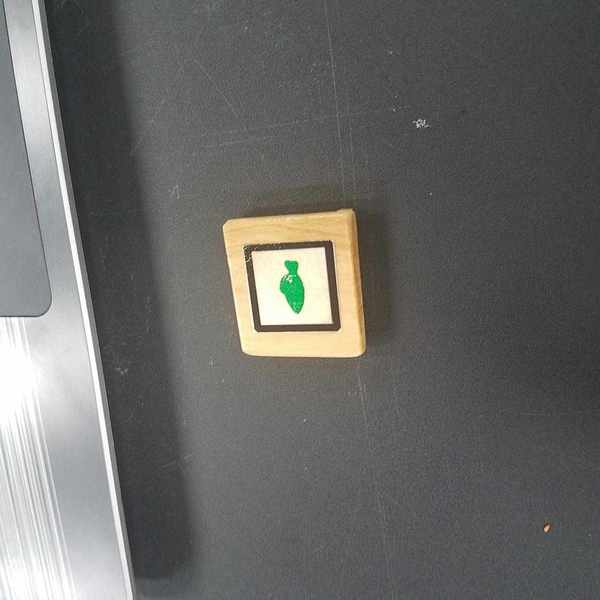Fish Tiles: (243, 244, 342, 332)
